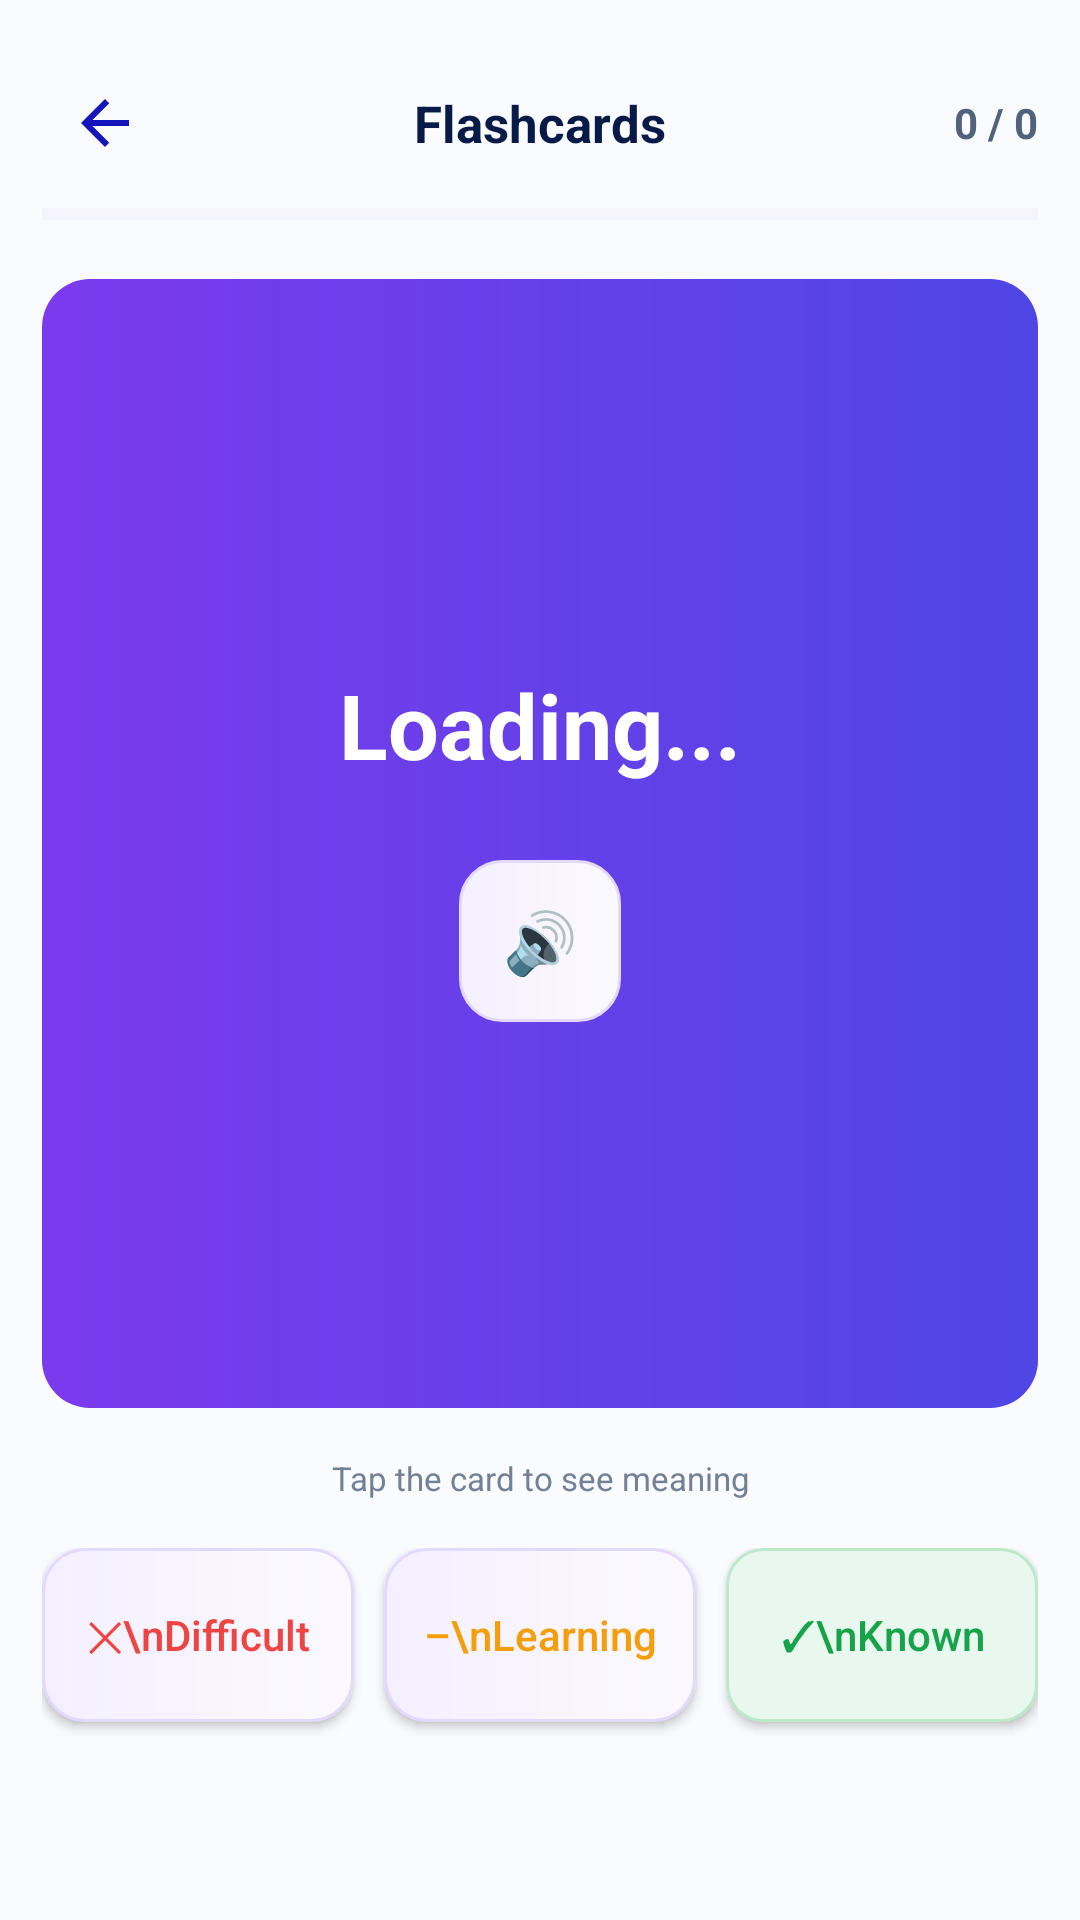

Icon bounding boxes for this 1080w x 1920h phone screenshot, format (x1, y1, x2, y2):
Back: (81, 99, 129, 147)
